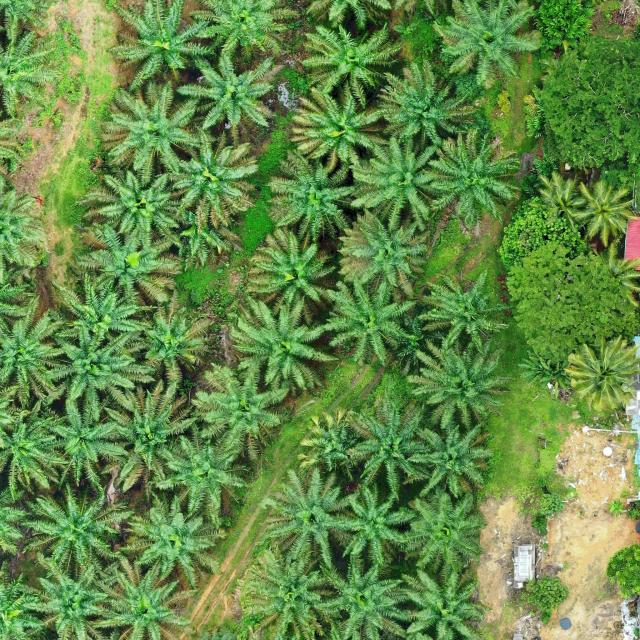Tree: (506, 239, 640, 358), (539, 34, 640, 171), (228, 290, 340, 394), (21, 479, 136, 578), (101, 377, 199, 491), (255, 464, 363, 564), (105, 1, 216, 90), (264, 146, 364, 242), (287, 83, 385, 180), (434, 0, 543, 87), (74, 222, 186, 306), (407, 337, 506, 432), (44, 318, 158, 400), (313, 553, 419, 640), (190, 360, 290, 452), (125, 490, 218, 587), (160, 129, 258, 221), (348, 133, 438, 233), (100, 84, 198, 174), (173, 49, 278, 133), (350, 390, 434, 494), (251, 227, 339, 325), (371, 65, 477, 146), (319, 276, 413, 366), (38, 390, 132, 480), (128, 287, 215, 384), (153, 426, 251, 512), (429, 130, 522, 220), (90, 556, 188, 640), (338, 207, 429, 297), (0, 396, 77, 500), (301, 18, 403, 96), (331, 486, 417, 578), (50, 276, 158, 349), (72, 167, 182, 237), (396, 564, 493, 640), (400, 489, 487, 573), (420, 269, 509, 351), (497, 194, 594, 269), (407, 420, 497, 498), (182, 1, 294, 63), (0, 292, 66, 396), (241, 546, 326, 626), (21, 564, 107, 640), (567, 335, 639, 410), (296, 408, 360, 486), (173, 208, 244, 272), (574, 178, 636, 248), (518, 342, 576, 400), (530, 173, 588, 225)
